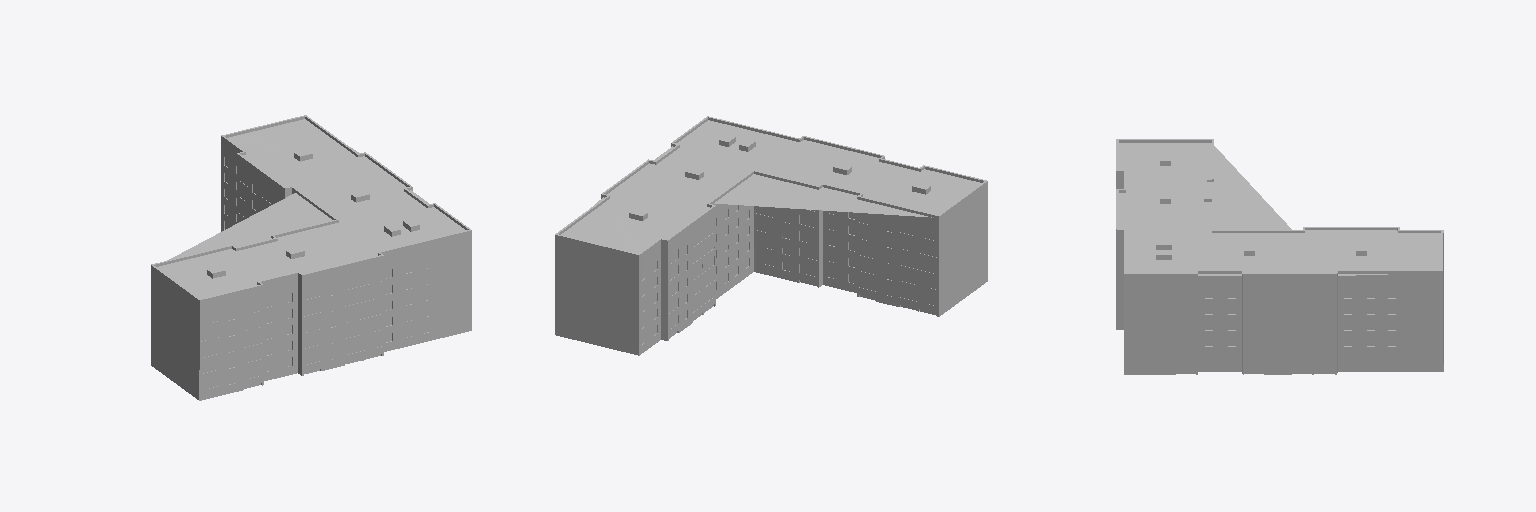
File: Corner.obj
3 views of the same model, side by side, from view 1: azimuth 30°, elevation 25°; view 2: azimuth 150°, elevation 25°; view 3: azimuth 270°, elevation 25° (orthographic).
Visible parts, largest first — view 1: page.006; view 2: page.006; view 3: page.006.
Boxes of the visible parts, x1=… form: page.006: x1=151, y1=115, x2=471, y2=400; page.006: x1=555, y1=116, x2=987, y2=355; page.006: x1=1116, y1=139, x2=1443, y2=374.
Size of the model in its own units: 2.84 by 1.01 by 2.91.